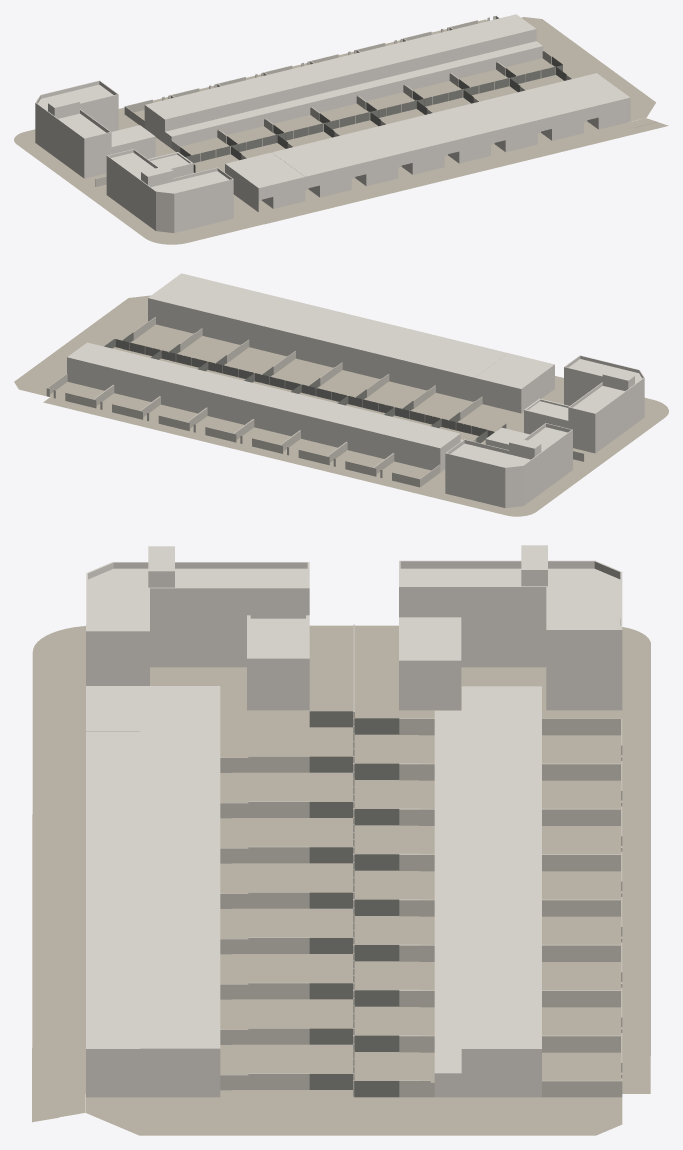
The picture shows the model from 3 angles, top to bottom: view 1: azimuth 30°, elevation 25°; view 2: azimuth 150°, elevation 25°; view 3: azimuth 270°, elevation 25°; orthographic projection. The views are drawn at different scales.
Parts seen in each view (by area): view 1: entorno_edif, entorno_suelo, N3_suelo, S0_edif, N0_edif, S2_edif, S5_edif, S1_edif, S7_edif, S3_edif, S6_edif, S4_edif (+23 smaller); view 2: entorno_suelo, entorno_edif, N3_suelo, S0_edif, S6_edif, S3_edif, S1_edif, S2_edif, S5_edif, S4_edif, S7_edif, N0_edif (+23 smaller); view 3: entorno_suelo, N3_suelo, entorno_edif, S7_edif, N7_edif, S1_edif, S4_edif, S0_edif, S3_edif, S5_edif, S6_edif, S2_edif (+31 smaller).
Boxes of the visible parts, bbox=[...] form: entorno_edif: bbox=[35, 80, 233, 232]; entorno_suelo: bbox=[14, 19, 668, 244]; N3_suelo: bbox=[88, 17, 655, 210]; S0_edif: bbox=[225, 152, 305, 211]; N0_edif: bbox=[144, 93, 217, 148]; S2_edif: bbox=[318, 129, 398, 186]; S5_edif: bbox=[458, 95, 537, 152]; S1_edif: bbox=[272, 141, 351, 197]; S7_edif: bbox=[551, 73, 630, 129]; S3_edif: bbox=[365, 118, 444, 174]; S6_edif: bbox=[504, 84, 583, 140]; S4_edif: bbox=[411, 107, 490, 163]; entorno_suelo: bbox=[43, 324, 668, 516]; entorno_edif: bbox=[445, 355, 644, 507]; N3_suelo: bbox=[14, 295, 592, 492]; S0_edif: bbox=[474, 353, 554, 413]; S6_edif: bbox=[194, 284, 274, 344]; S3_edif: bbox=[334, 319, 414, 378]; S1_edif: bbox=[428, 341, 507, 401]; S2_edif: bbox=[381, 330, 460, 390]; S5_edif: bbox=[241, 296, 320, 356]; S4_edif: bbox=[288, 307, 367, 367]; S7_edif: bbox=[148, 273, 227, 333]; N0_edif: bbox=[393, 422, 462, 472]; entorno_suelo: bbox=[32, 625, 650, 1122]; N3_suelo: bbox=[86, 641, 622, 1135]; entorno_edif: bbox=[86, 545, 622, 710]; S7_edif: bbox=[86, 1003, 220, 1097]; N7_edif: bbox=[434, 1003, 541, 1097]; S1_edif: bbox=[86, 731, 220, 776]; S4_edif: bbox=[86, 867, 220, 912]; S0_edif: bbox=[86, 686, 220, 731]; S3_edif: bbox=[86, 822, 220, 867]; S5_edif: bbox=[86, 912, 220, 958]; S6_edif: bbox=[86, 958, 220, 1003]; S2_edif: bbox=[86, 776, 220, 822].
Size of the model in its own units: 135 by 12.04 by 69.23.
